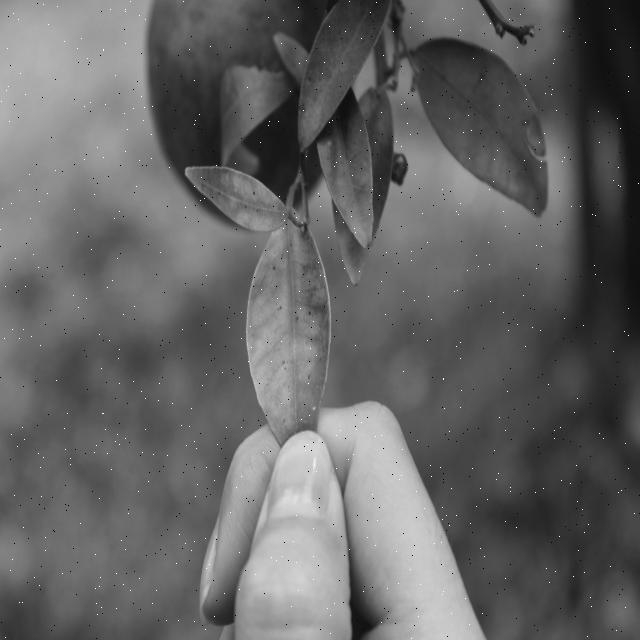blackspot: (258, 235, 328, 426), (293, 0, 381, 130), (195, 161, 284, 236)
